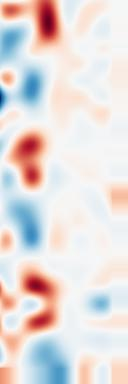filament: (16, 261, 66, 340), (9, 131, 53, 189), (30, 1, 70, 54)
